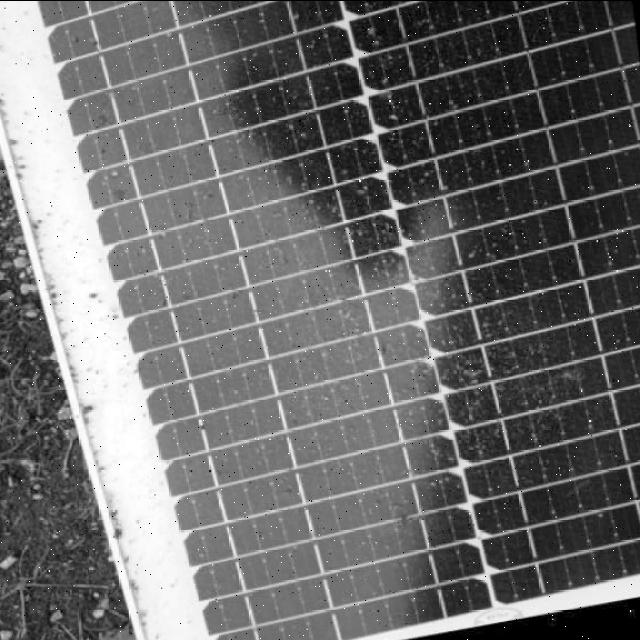Anomaly Solar Panel: (40, 0, 640, 640)
Surface Contaminant: (109, 0, 640, 640)
